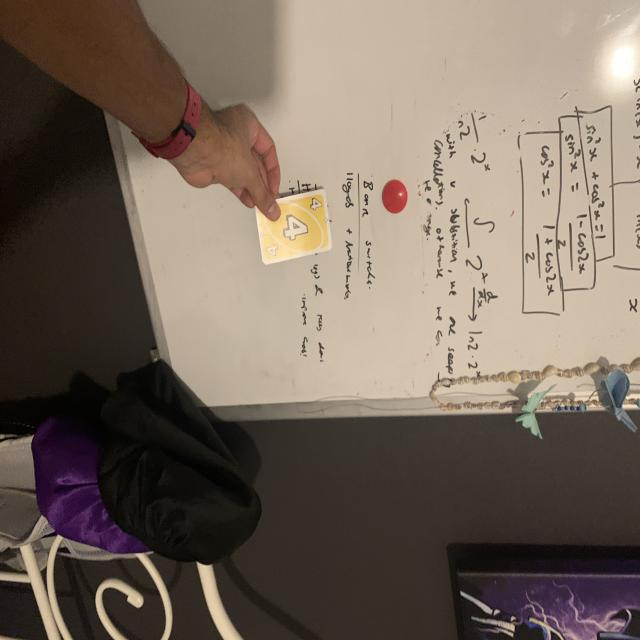lyellow-4: (306, 194, 324, 214)
